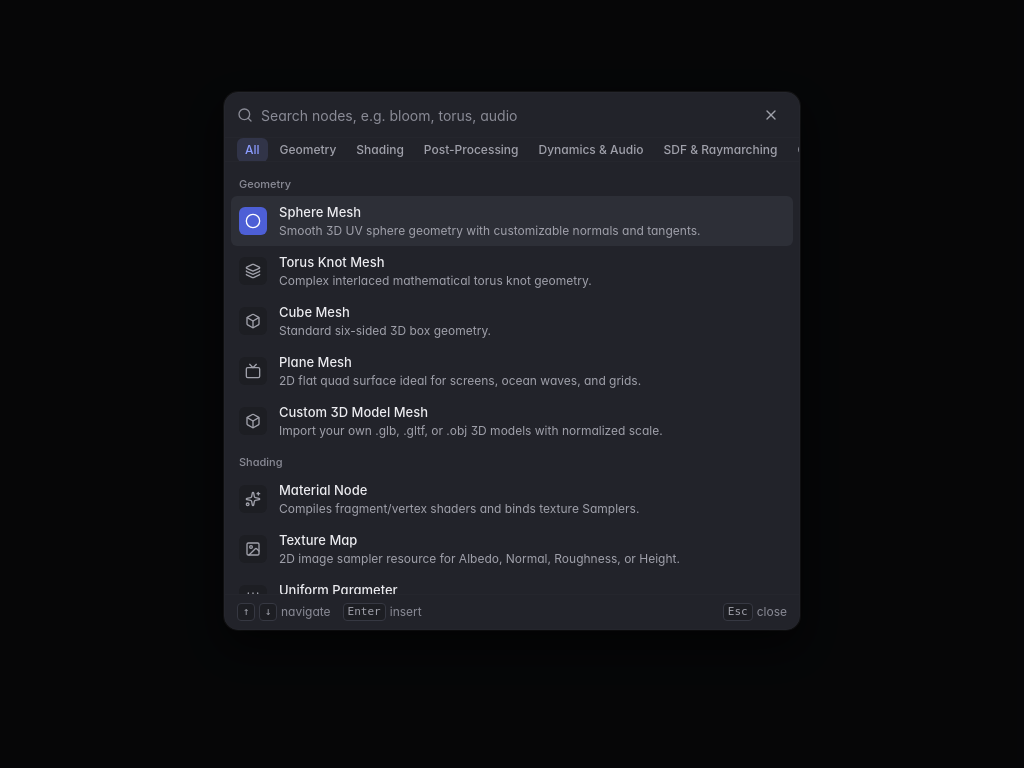
it: node palette (command palette) › typing filters, resets the selection and shows an empty state
Type "bloom" into the dropdown labelled "Search nodes" at (504, 115), box [261,93,747,137]
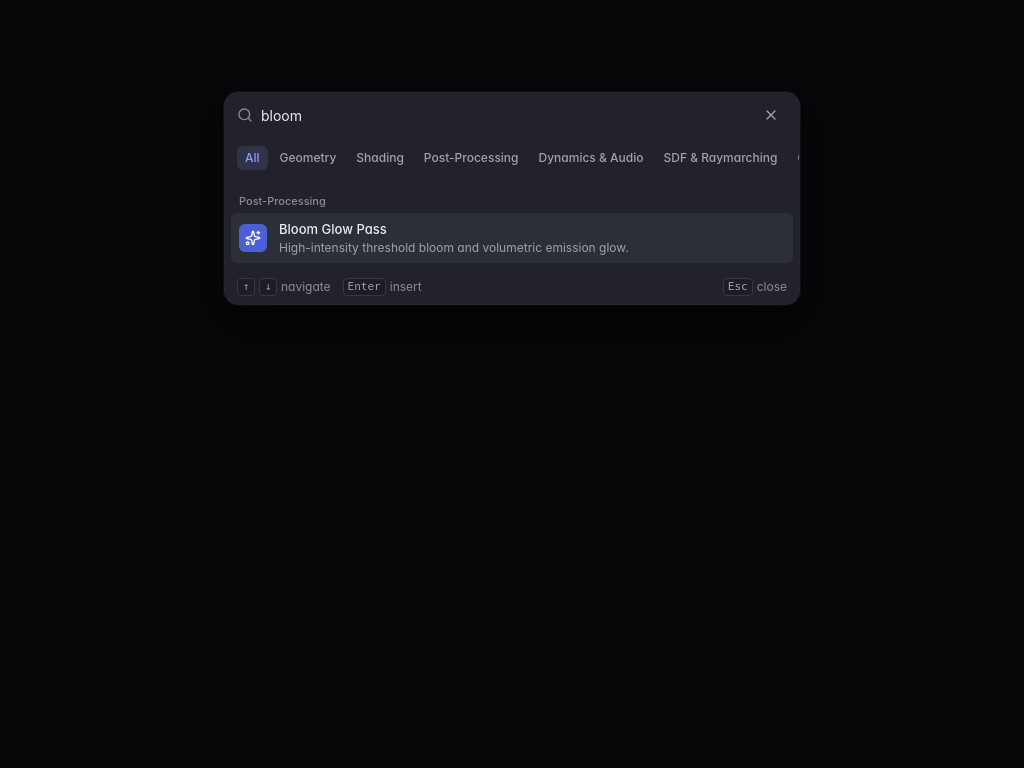
Expected: the number of options is 1, [231,213,793,263]
Press Enter in the dropdown named "Search nodes", box [261,93,747,137]
Replace the text in the dropdown named "Search nodes" with "zzzz-nothing" at (504, 115), box [261,93,747,137]
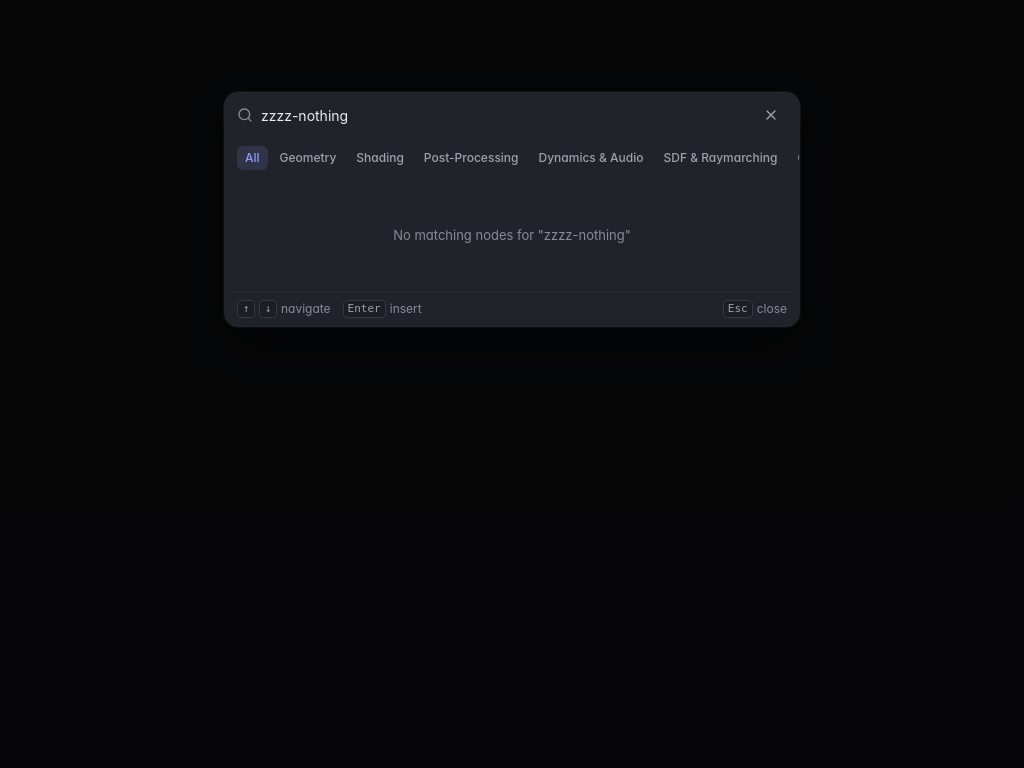
Expected: no options are shown
Expected: the text "No matching nodes for \"zzzz-nothing\"" is shown, [393,227,631,243]
